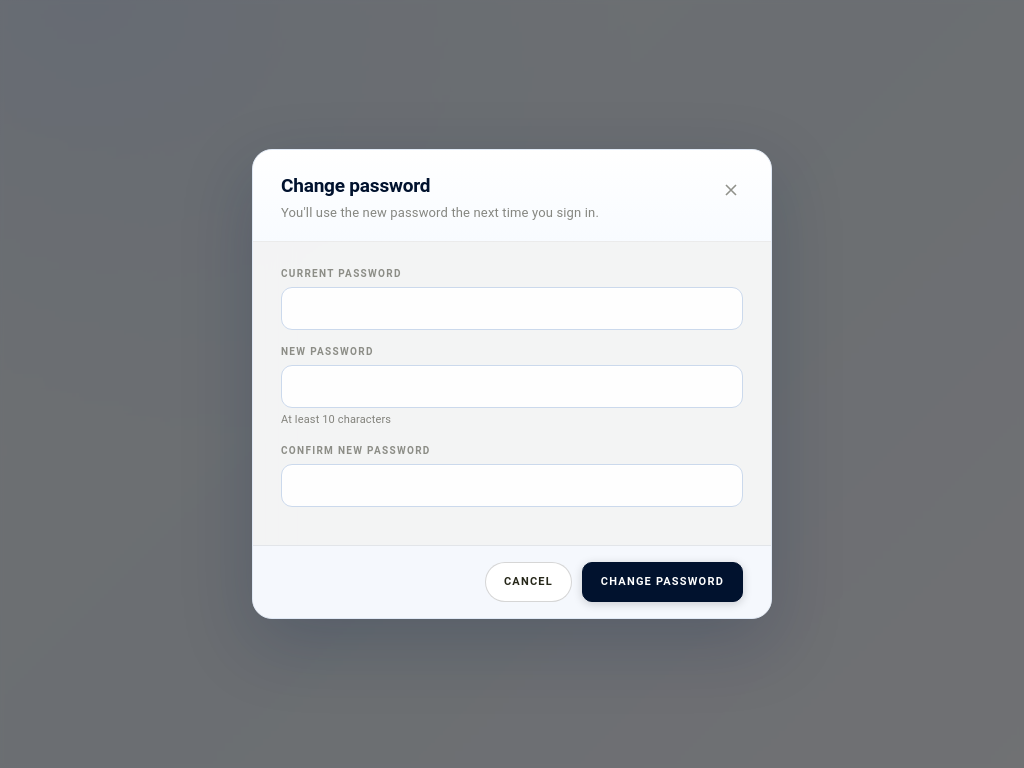
Scenario: Change password (signed in) › rejects reusing the current password and mismatched confirmation
In the password field labelled "Current password": (512,309) [281, 287, 743, 330], type "old-password-1"
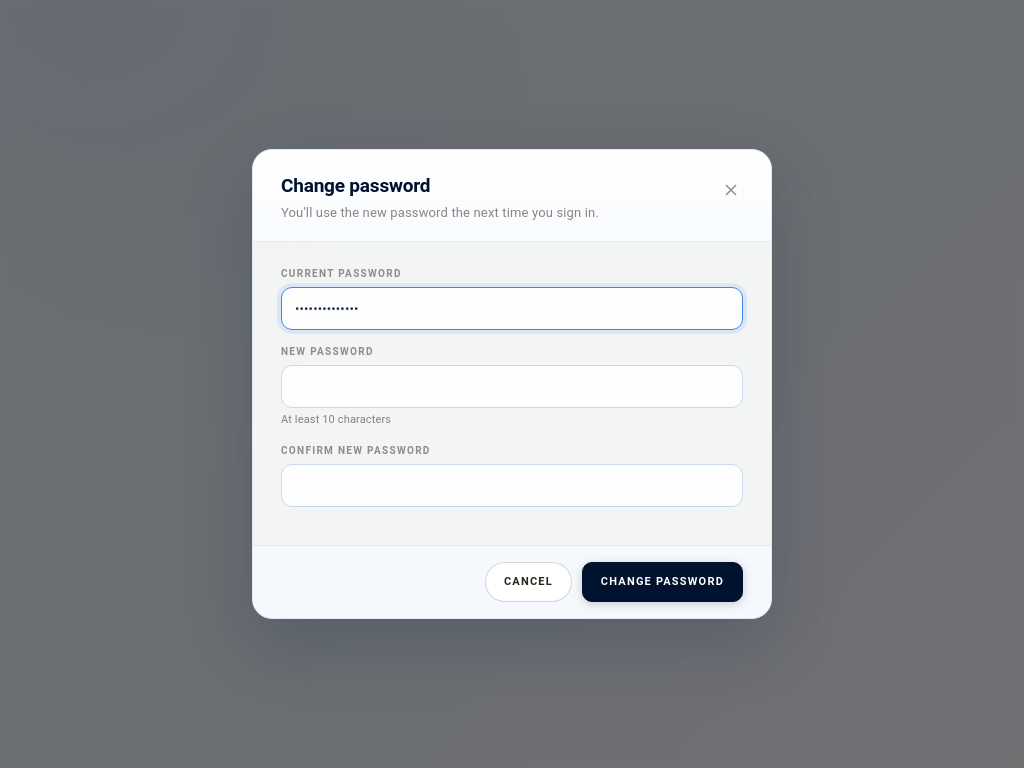
In the password field labelled "New password": (512,387) [281, 365, 743, 408], type "old-password-1"
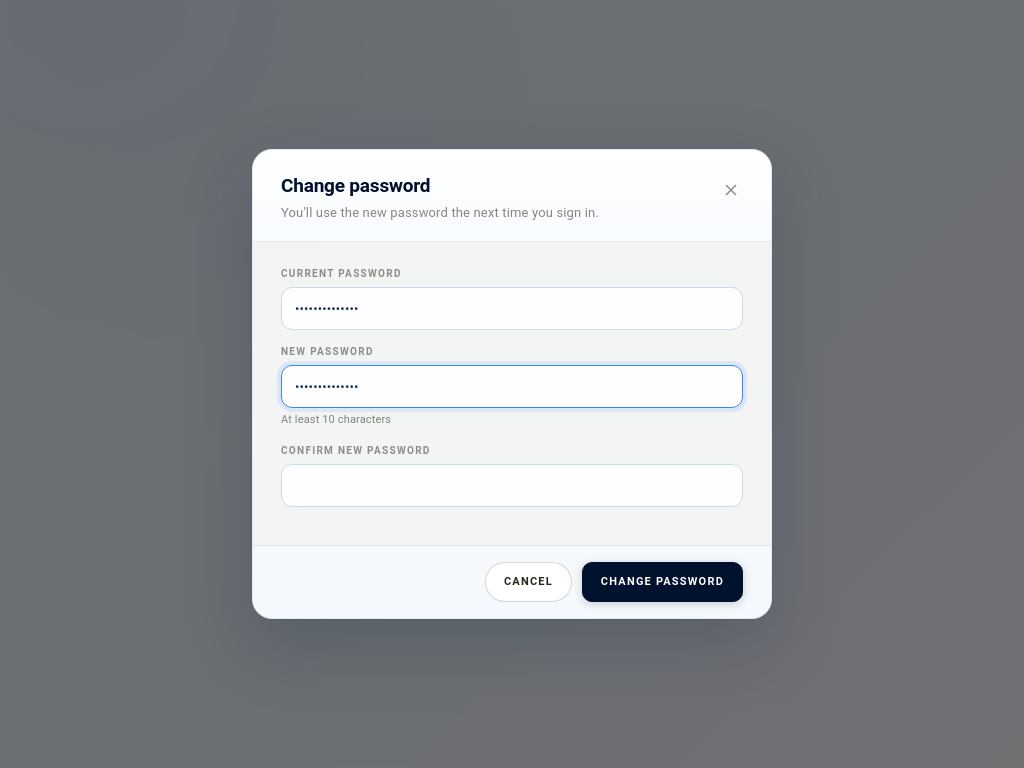
In the password field labelled "Confirm new password": (512,485) [281, 464, 743, 507], type "something-else"
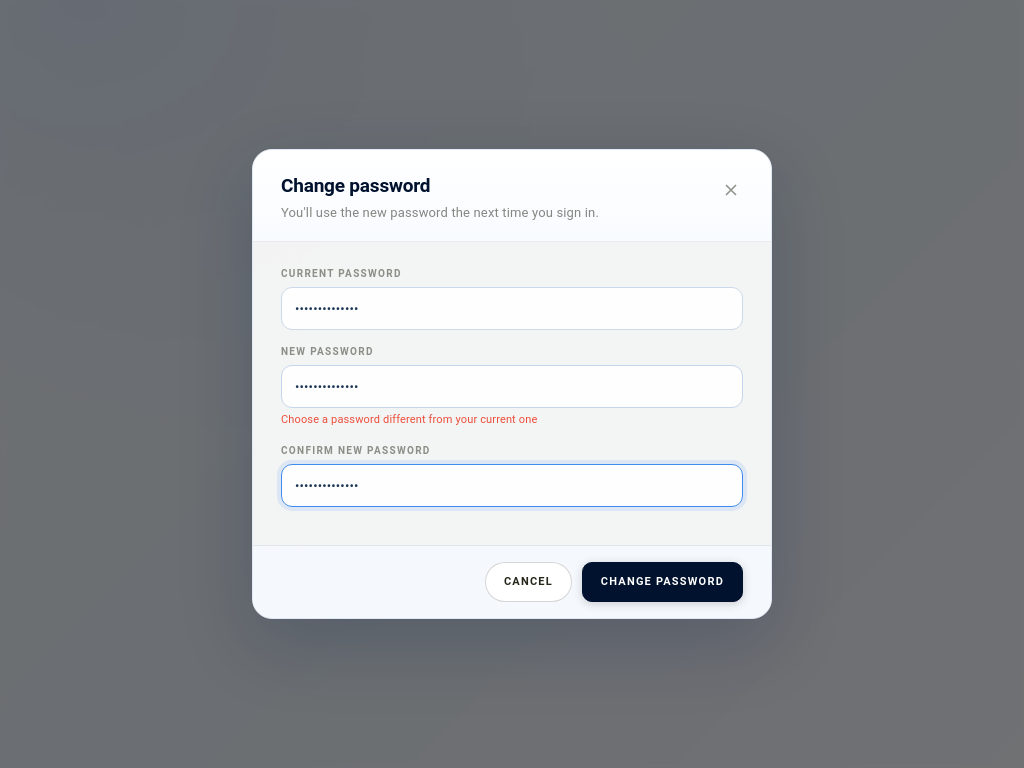
Click the button "Change password": (662,582) [582, 562, 743, 602]
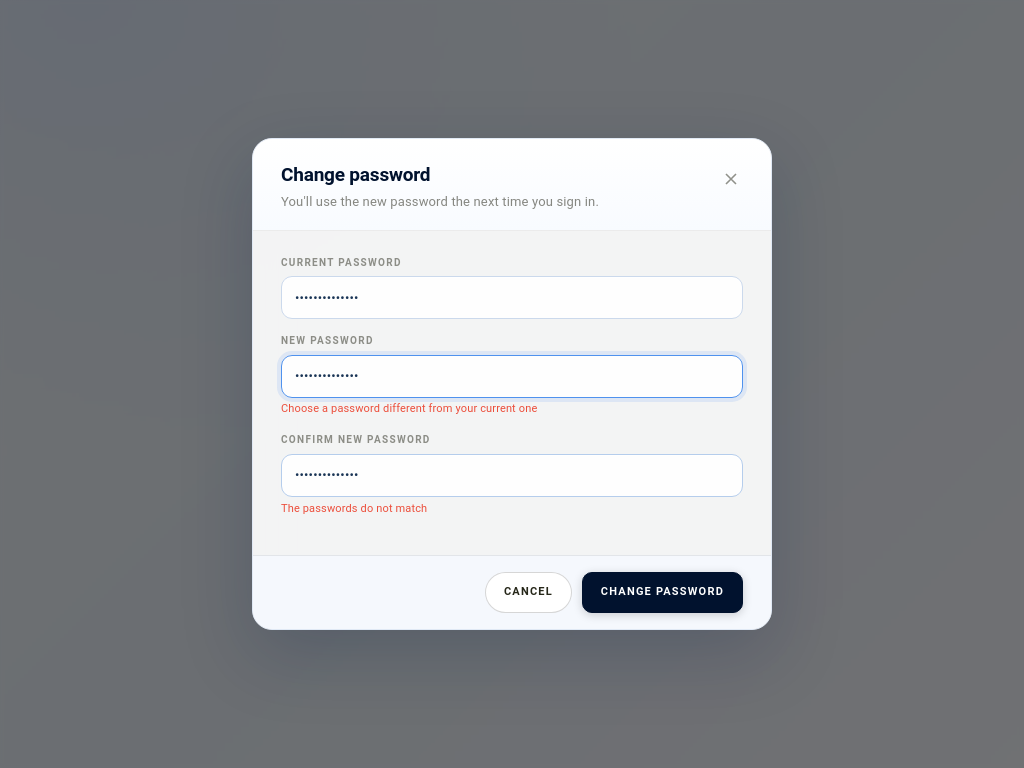
Result: the text "Choose a password different from your current one" is shown at [281, 403, 537, 416]
Result: the text "The passwords do not match" is shown at [281, 502, 427, 515]
